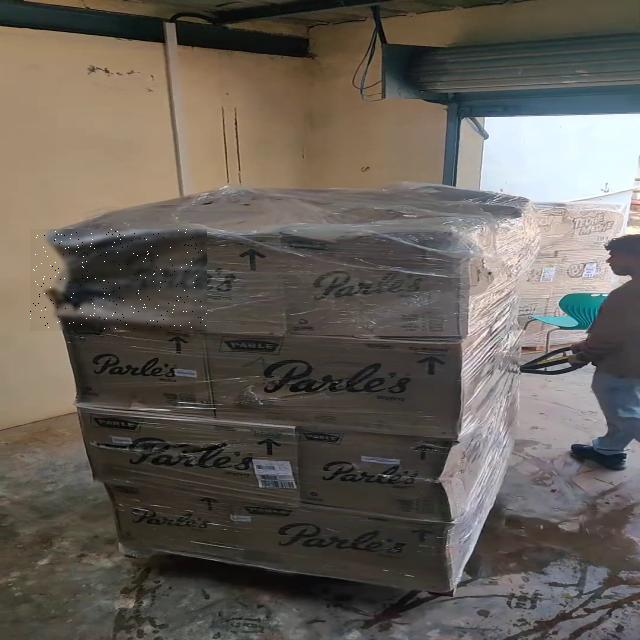squeeze: (30, 230, 207, 329)
